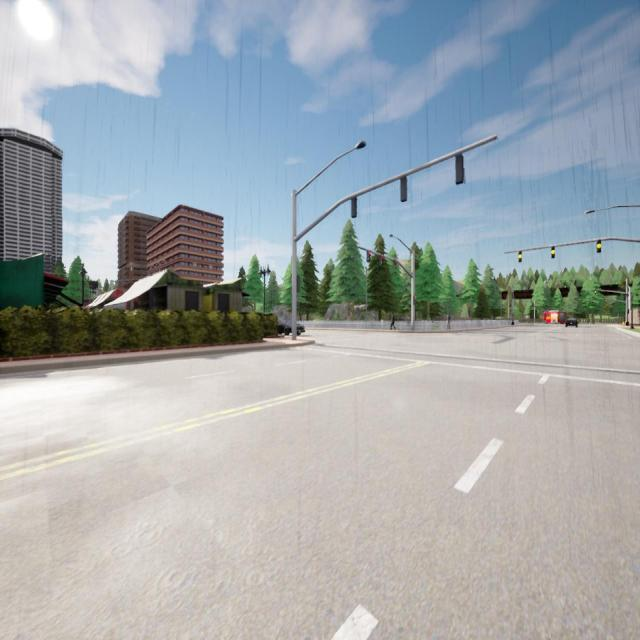Pedestrian: (390, 314, 395, 329), (447, 313, 451, 330)
Traffic_Signs: (525, 315, 528, 319)
Vehicle: (278, 321, 304, 335), (542, 311, 565, 324), (566, 318, 577, 327)
traffic_light: (456, 155, 464, 185), (400, 178, 407, 201), (352, 198, 358, 218), (297, 276, 300, 293), (597, 240, 601, 252), (518, 251, 522, 262), (551, 247, 555, 258), (367, 251, 370, 261), (380, 256, 383, 265), (413, 296, 416, 304), (394, 260, 396, 268), (605, 299, 607, 303), (582, 300, 584, 303), (595, 290, 596, 295), (593, 300, 594, 303)
